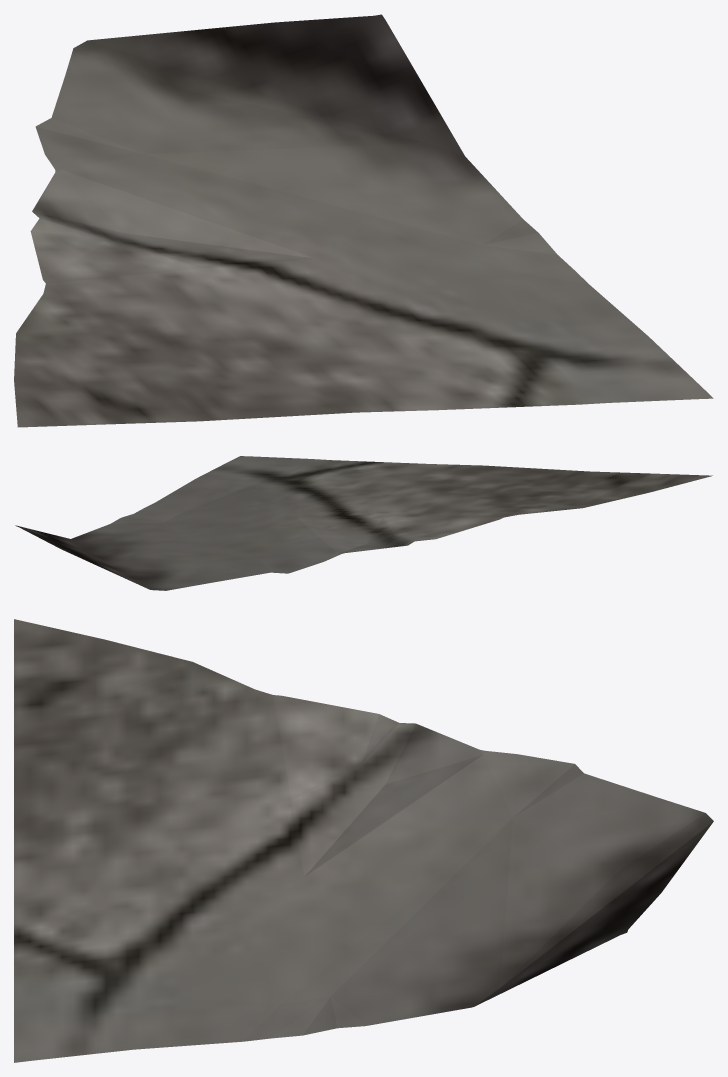
3 views of the same model, one above another, from view 1: azimuth 30°, elevation 25°; view 2: azimuth 150°, elevation 25°; view 3: azimuth 270°, elevation 25° (orthographic). The views are drawn at different scales.
Bounding box in the file's own units: 0.4359 × 0.0844 × 0.4112.
Materials: 1 (1 with a texture image).
